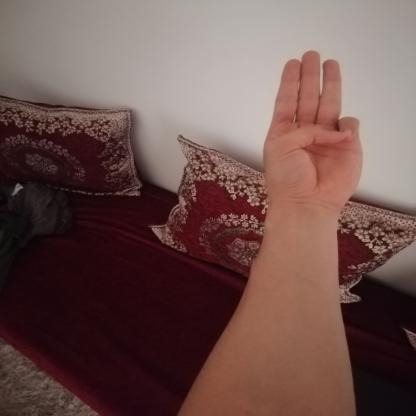THA: (244, 40, 374, 224)
